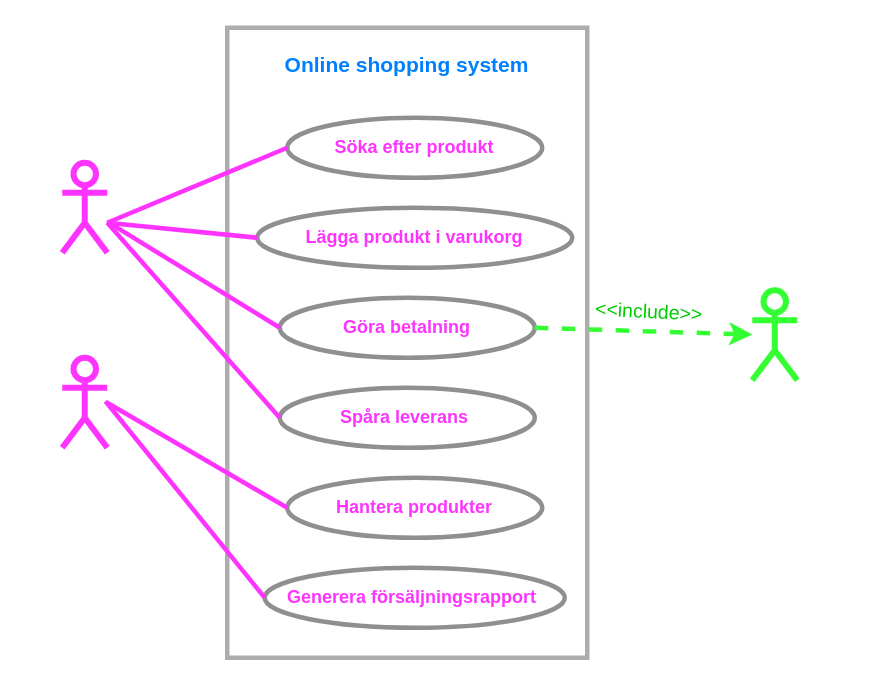
Image size: 878x686. Some labels were removed from this diagram. The shapes that lost their labels are listed below. From the top down, each one's centre as x and y in pixels, then its label:
At (84,207): "Kund".
At (774,334): "Betalningssystem".
At (84,402): "Administratör".
